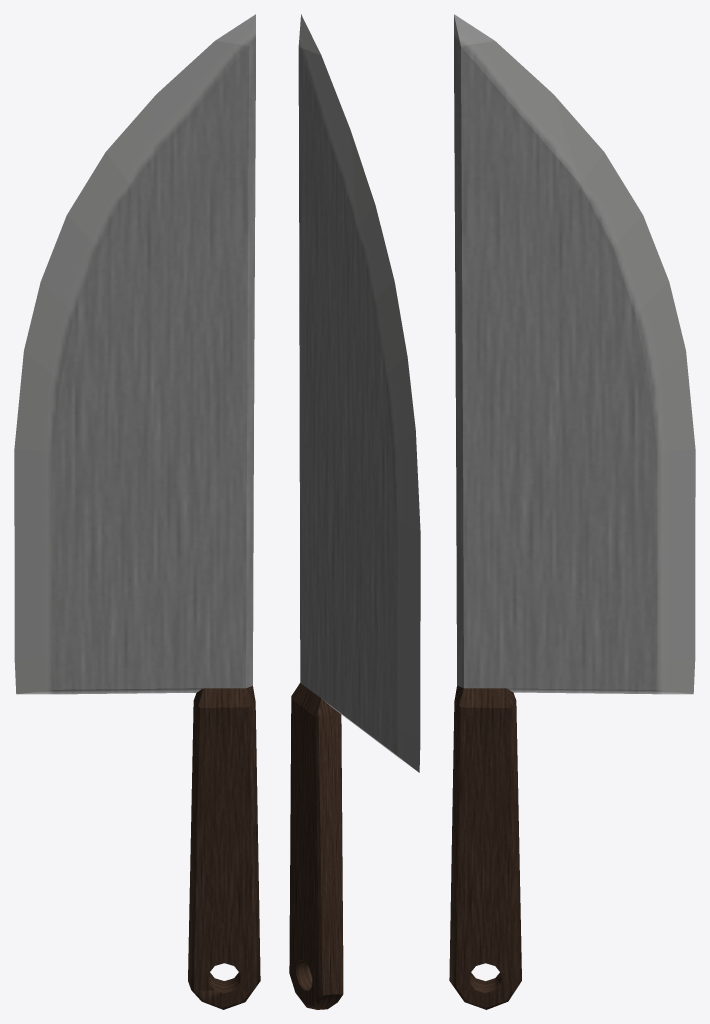
File: Interactive_Knife.fbx
3 views of the same model, side by side, from view 1: azimuth 90°, elevation 25°; view 2: azimuth 210°, elevation 25°; view 3: azimuth 270°, elevation 25° (orthographic).
Parts seen in each view (by area): view 1: polySurface1; view 2: polySurface1; view 3: polySurface1.
Part boxes in pixels (x1=…): polySurface1: x1=14, y1=14, x2=260, y2=1009; polySurface1: x1=289, y1=14, x2=420, y2=1009; polySurface1: x1=449, y1=14, x2=695, y2=1009.
Bounding box in the file's own units: 0.0122 × 0.4424 × 0.0991.
